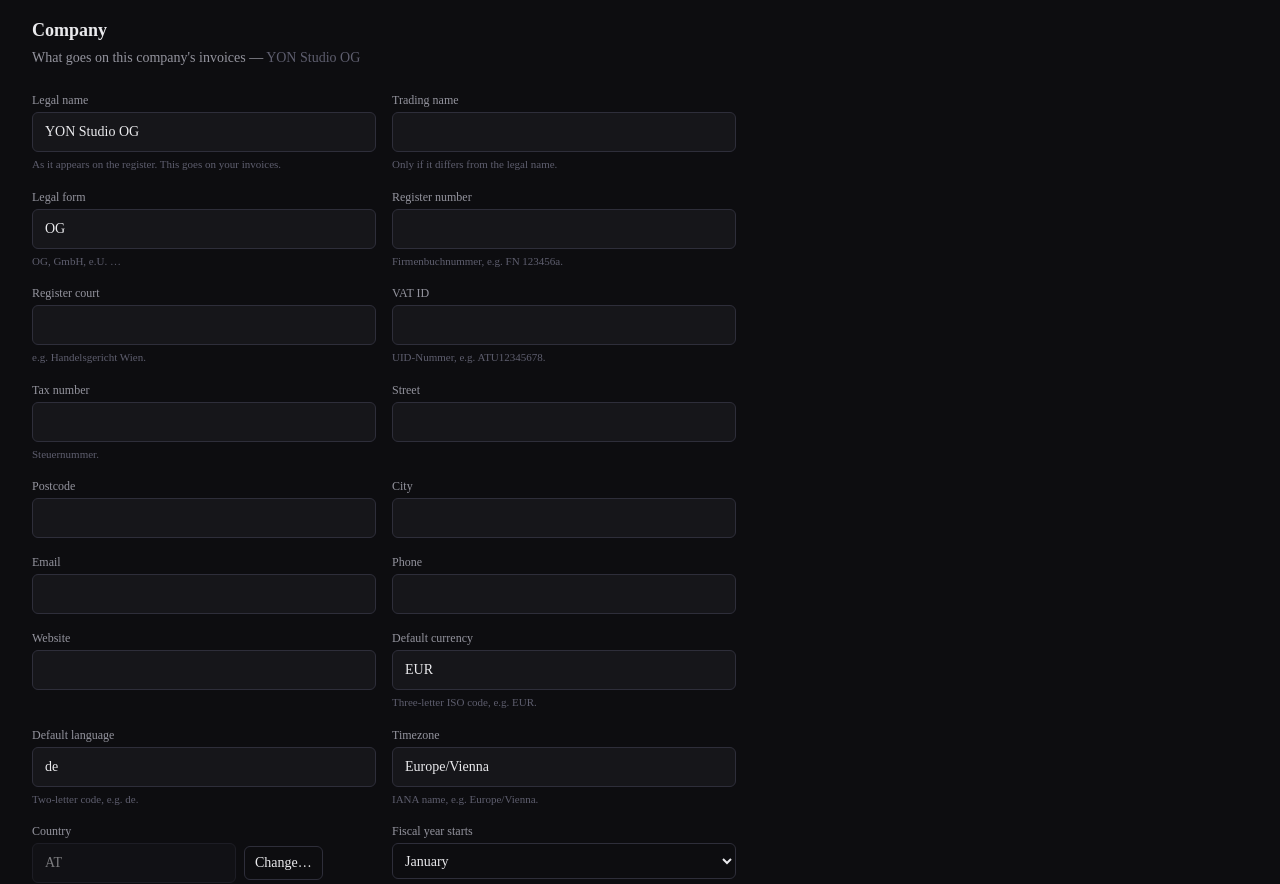
it: the change-country dialog › cannot be confirmed before a plan has come back
This screenshot has width=1280, height=884.
Expected: the field labelled "Country" holds "AT", [32, 843, 236, 883]
Click the button with test id "company-change-country".
click(283, 863)  # box [244, 846, 323, 880]
(page scrolled)
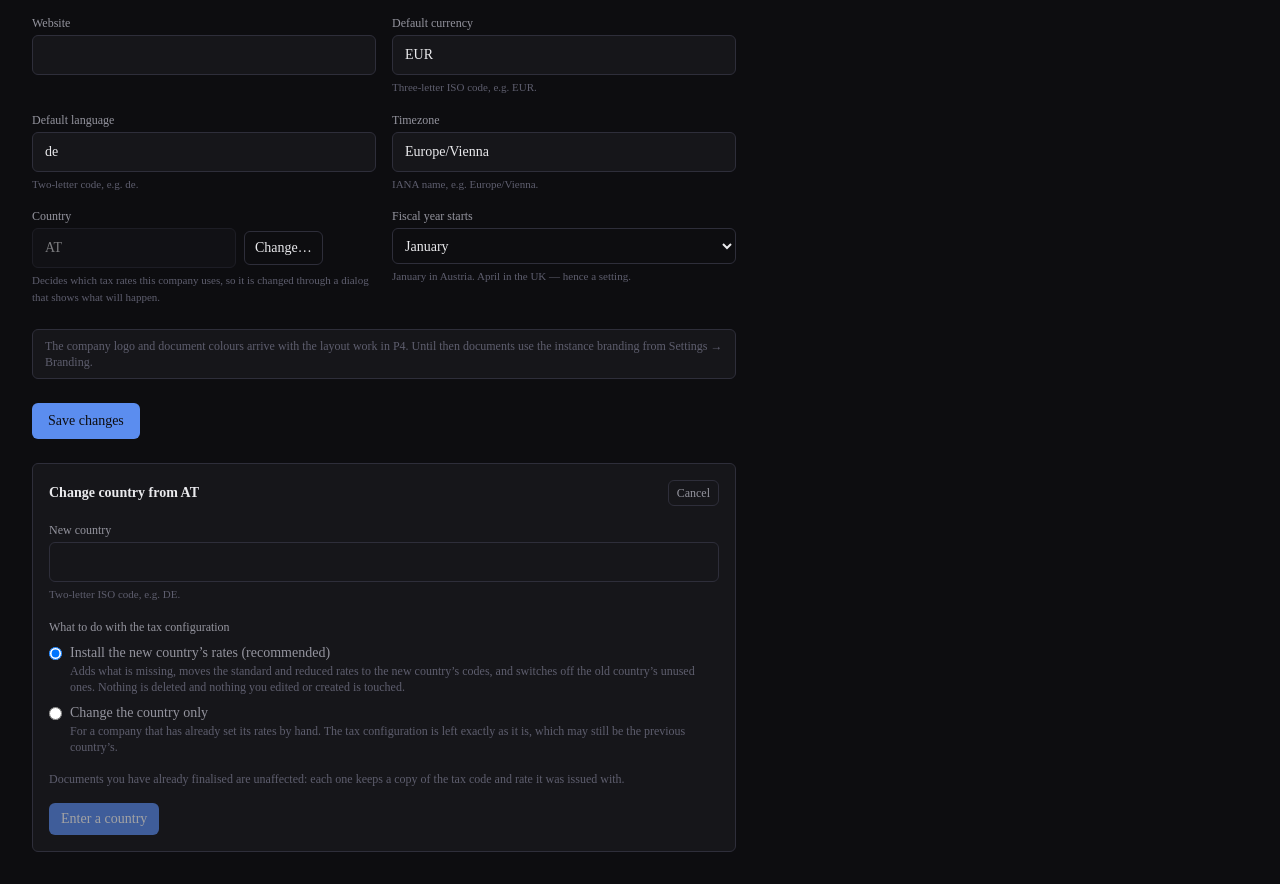
Result: the button with test id "change-country-confirm" is disabled at [49, 802, 159, 834]
Result: the button with test id "change-country-confirm" reads "Enter a country" at [49, 802, 159, 834]
Type "DE" into the field labelled "New country".
click(384, 562); type("DE")  # box [49, 542, 719, 582]
(page scrolled)
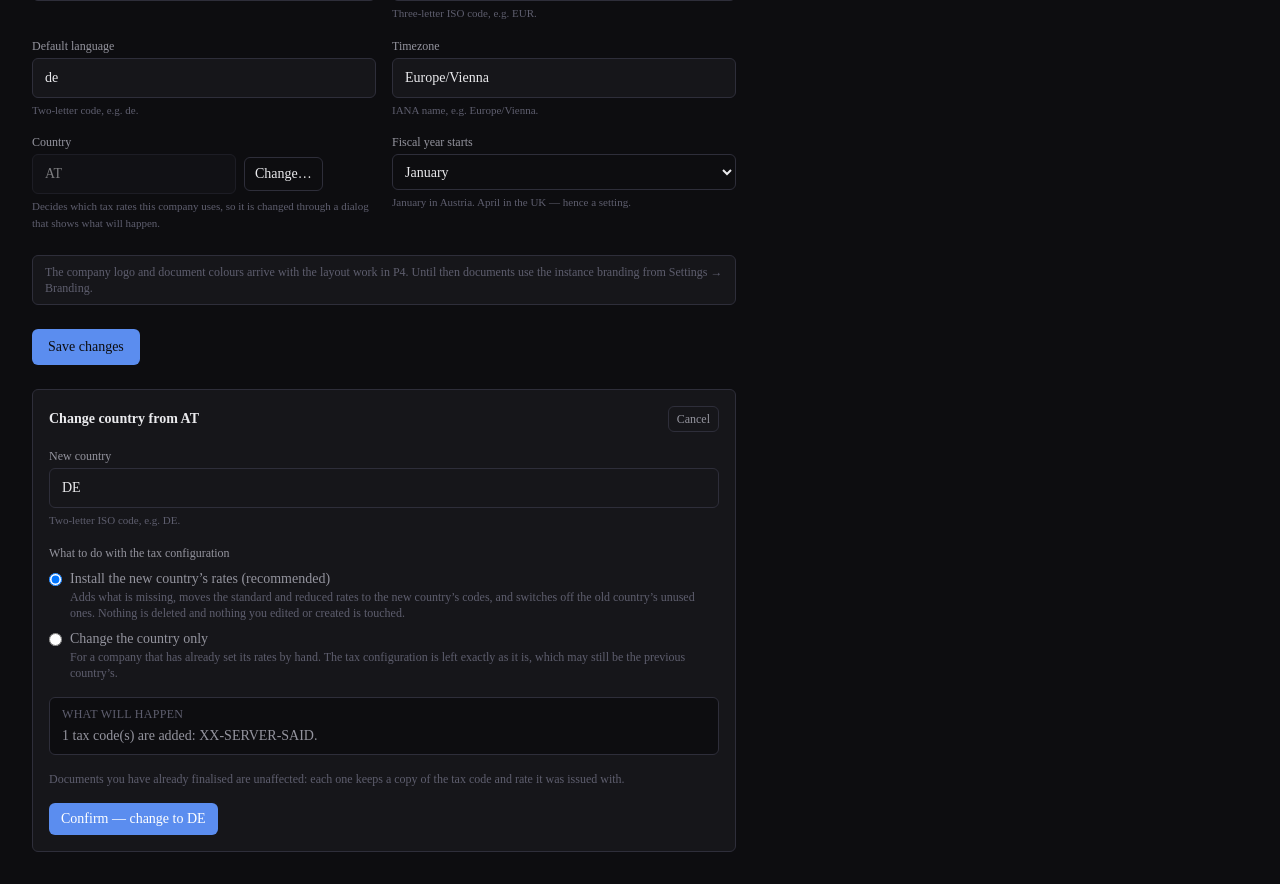
Result: the element with test id "change-country-plan" is shown at [49, 696, 719, 754]
Result: the button with test id "change-country-confirm" is enabled at [49, 802, 218, 834]
